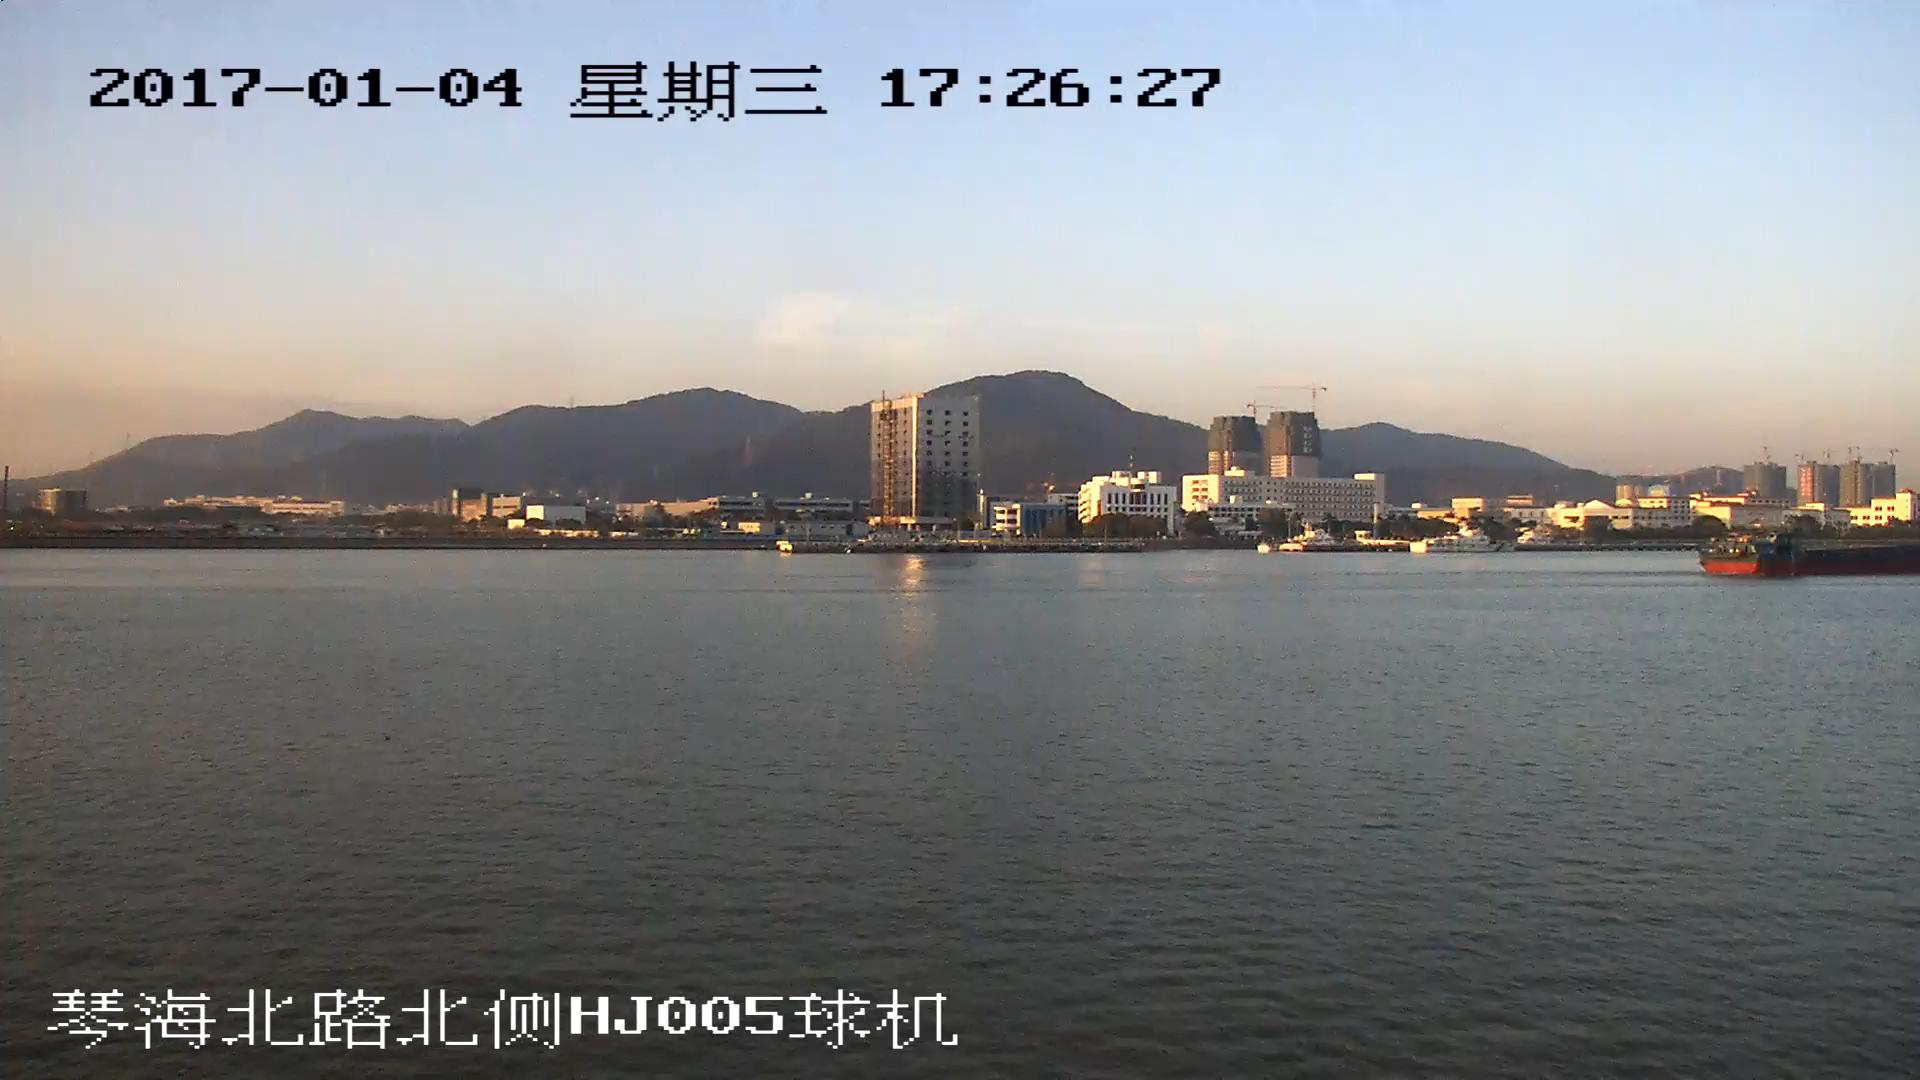general cargo ship: (1699, 528, 1920, 579)
